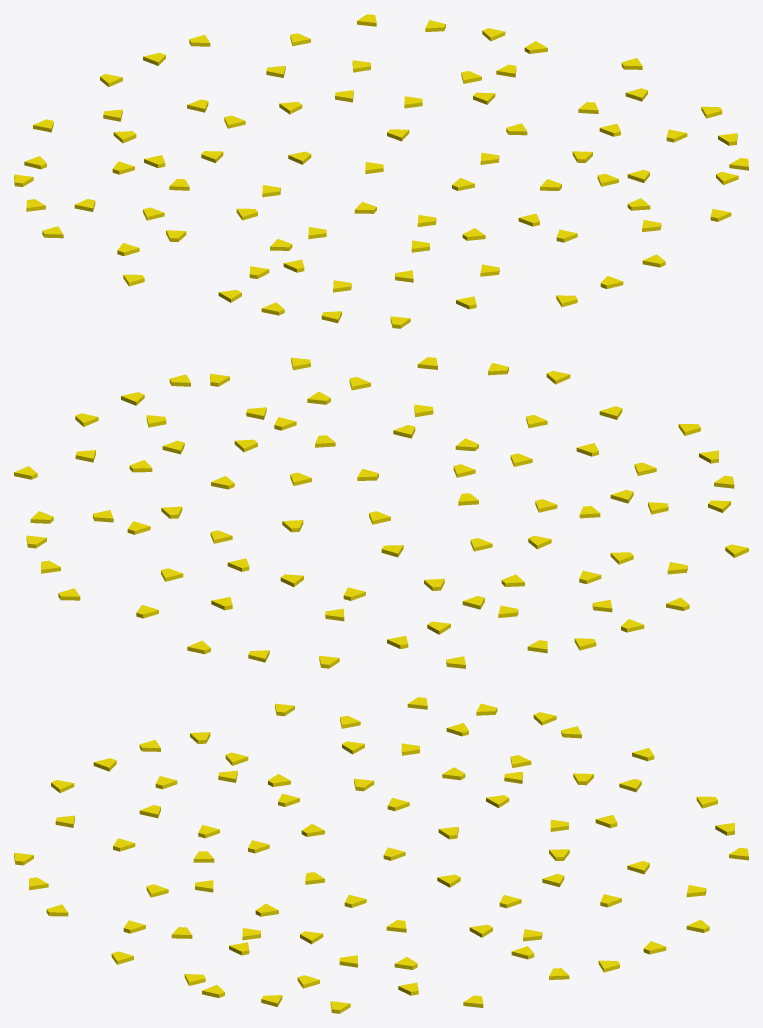
File: pineapple.glb
3 views of the same model, one above another, from view 1: azimuth 30°, elevation 25°; view 2: azimuth 150°, elevation 25°; view 3: azimuth 270°, elevation 25° (orthographic). The views are drawn at different scales.
Parts seen in each view (by area): view 1: pCube25; view 2: pCube25; view 3: pCube25.
Part boxes in pixels (x1,y1,x2,y2): pCube25: (14,14,748,328); pCube25: (14,357,748,668); pCube25: (14,697,748,1013).
Bounding box in the file's own units: 0.3583 × 0.002 × 0.3555.
